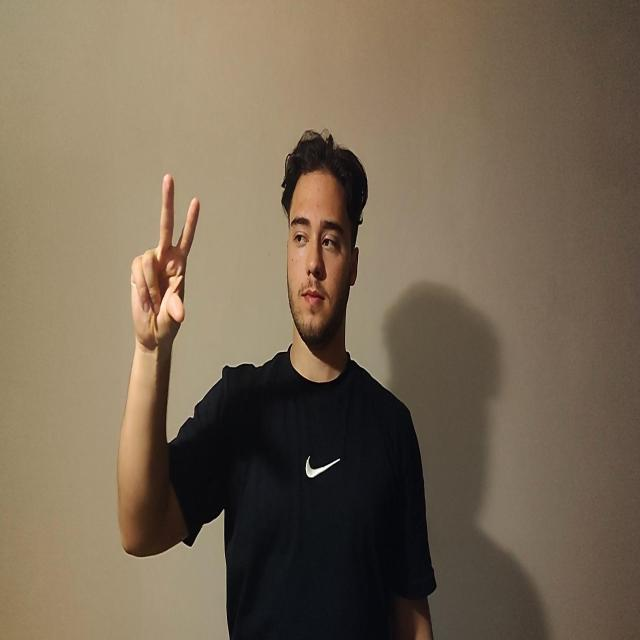no: (130, 172, 200, 352)
